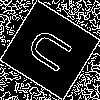U: (24, 25, 82, 81)
